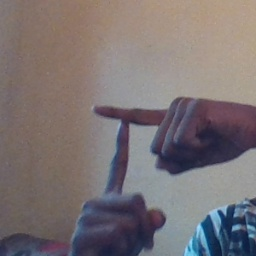T: (74, 94, 189, 211)
